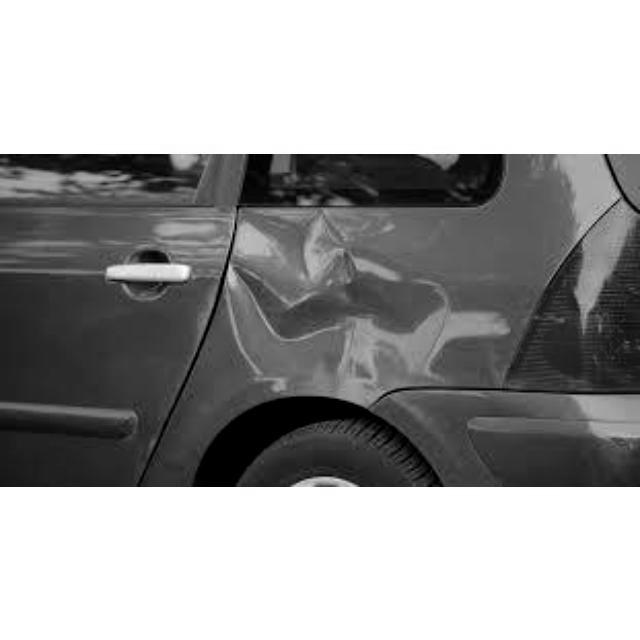quaterpanel-dent: (227, 205, 506, 429)
